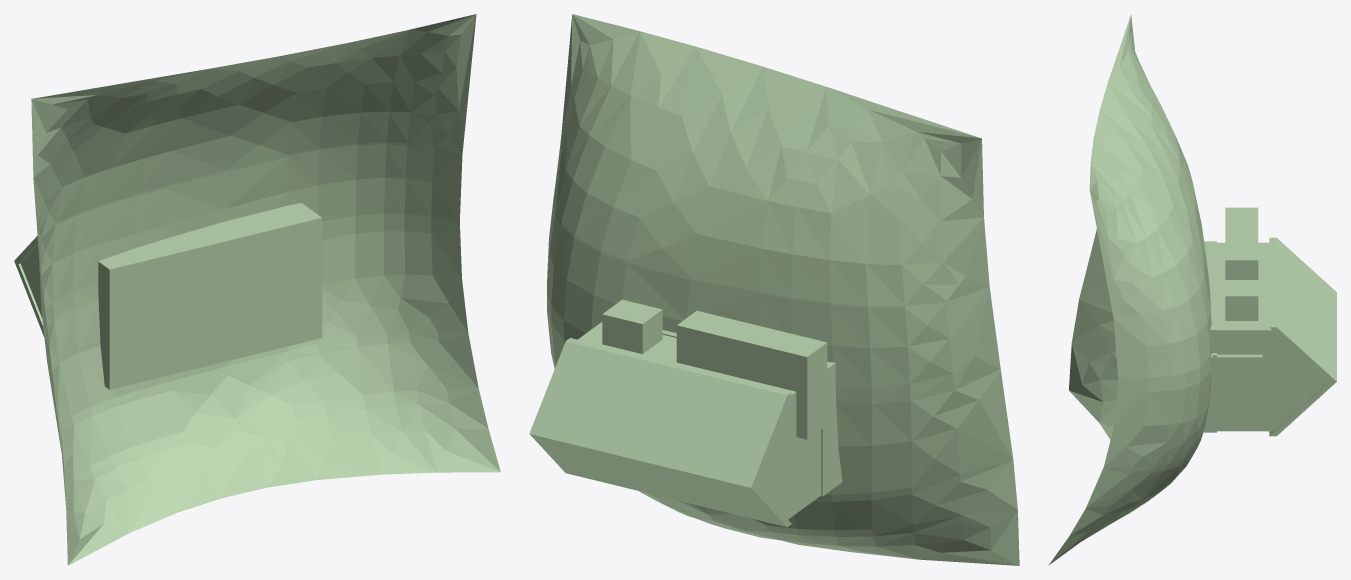
Rendered from IfcOpenHouse_IFC4.glb.
3 views of the same model, side by side, from view 1: azimuth 30°, elevation 25°; view 2: azimuth 150°, elevation 25°; view 3: azimuth 270°, elevation 25° (orthographic). The views are drawn at different scales.
Size of the model in its own units: 20 by 20 by 13.91.
